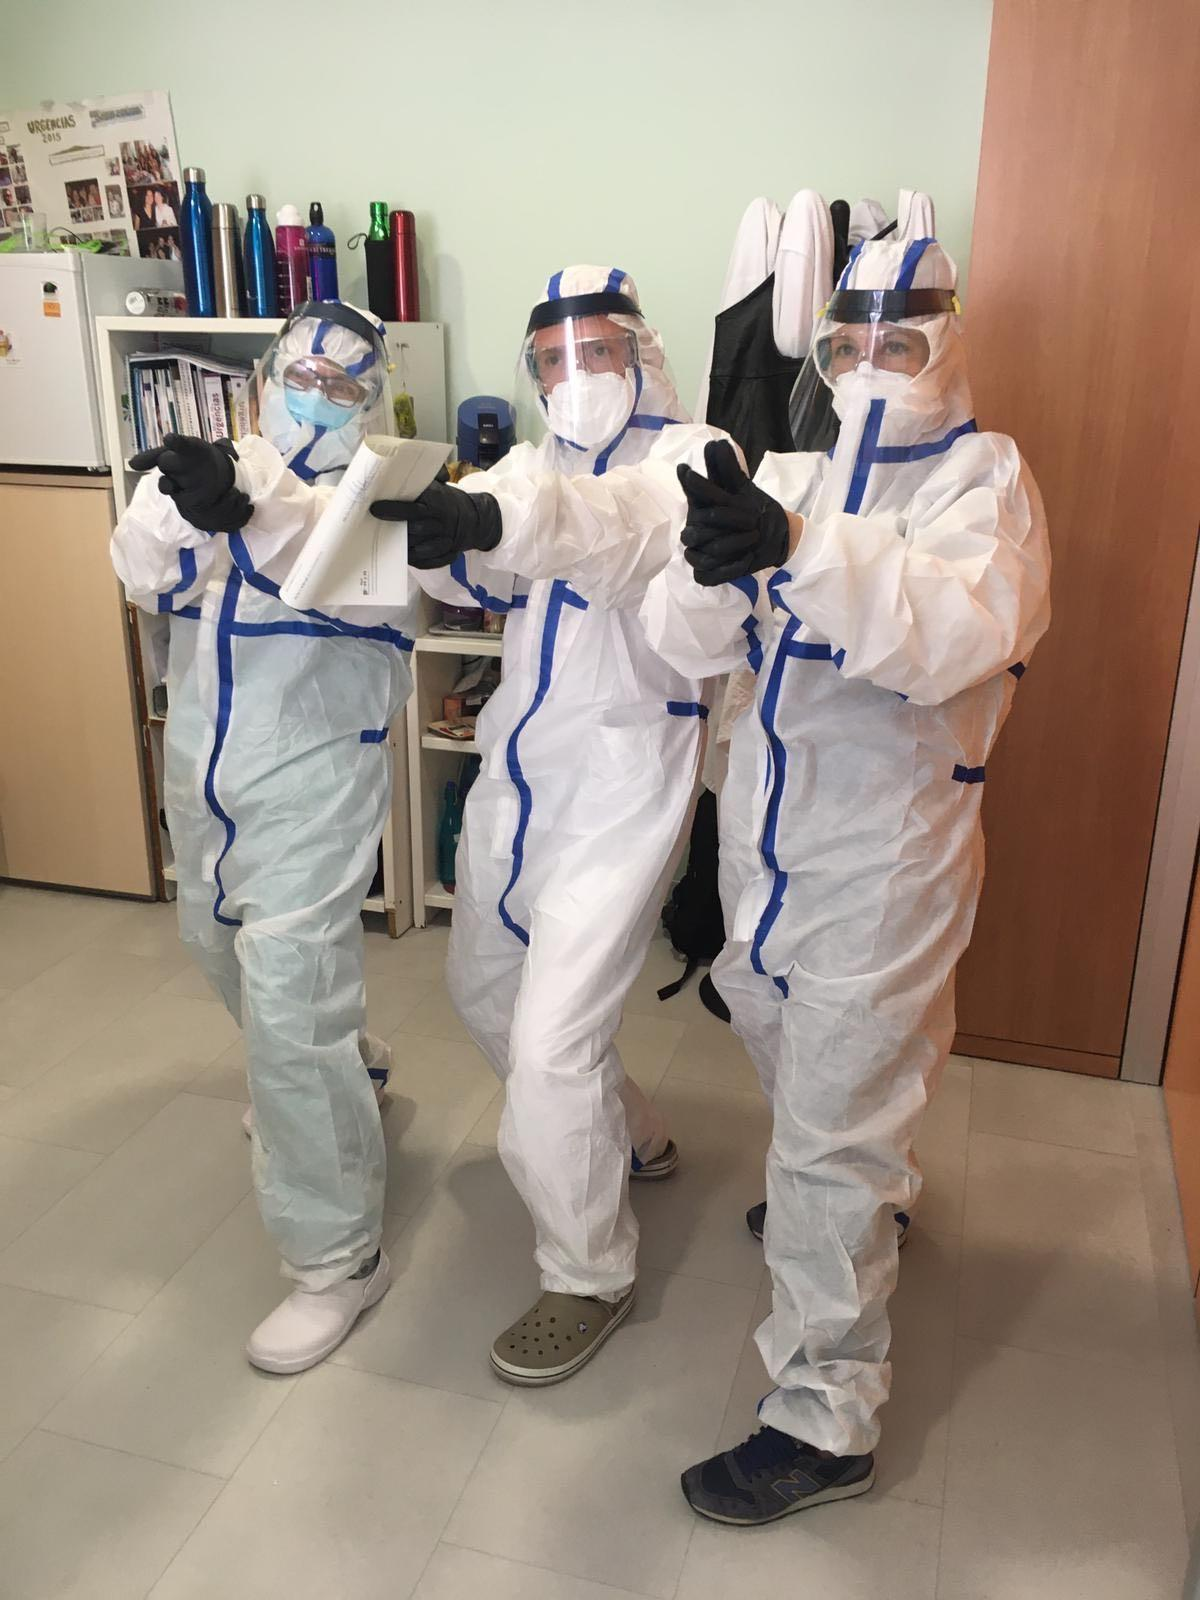Face_Shield: (786, 283, 976, 463), (234, 298, 403, 471), (505, 300, 669, 466)
Gloves: (674, 437, 793, 587), (122, 420, 266, 531), (362, 488, 513, 568)
Goggles: (268, 348, 378, 407), (818, 326, 935, 378), (527, 332, 639, 376)
